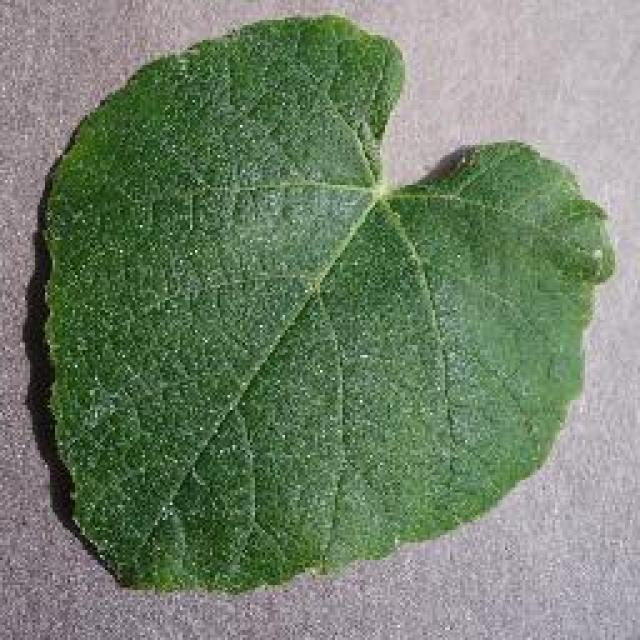Grape___healthy: (39, 12, 623, 596)
